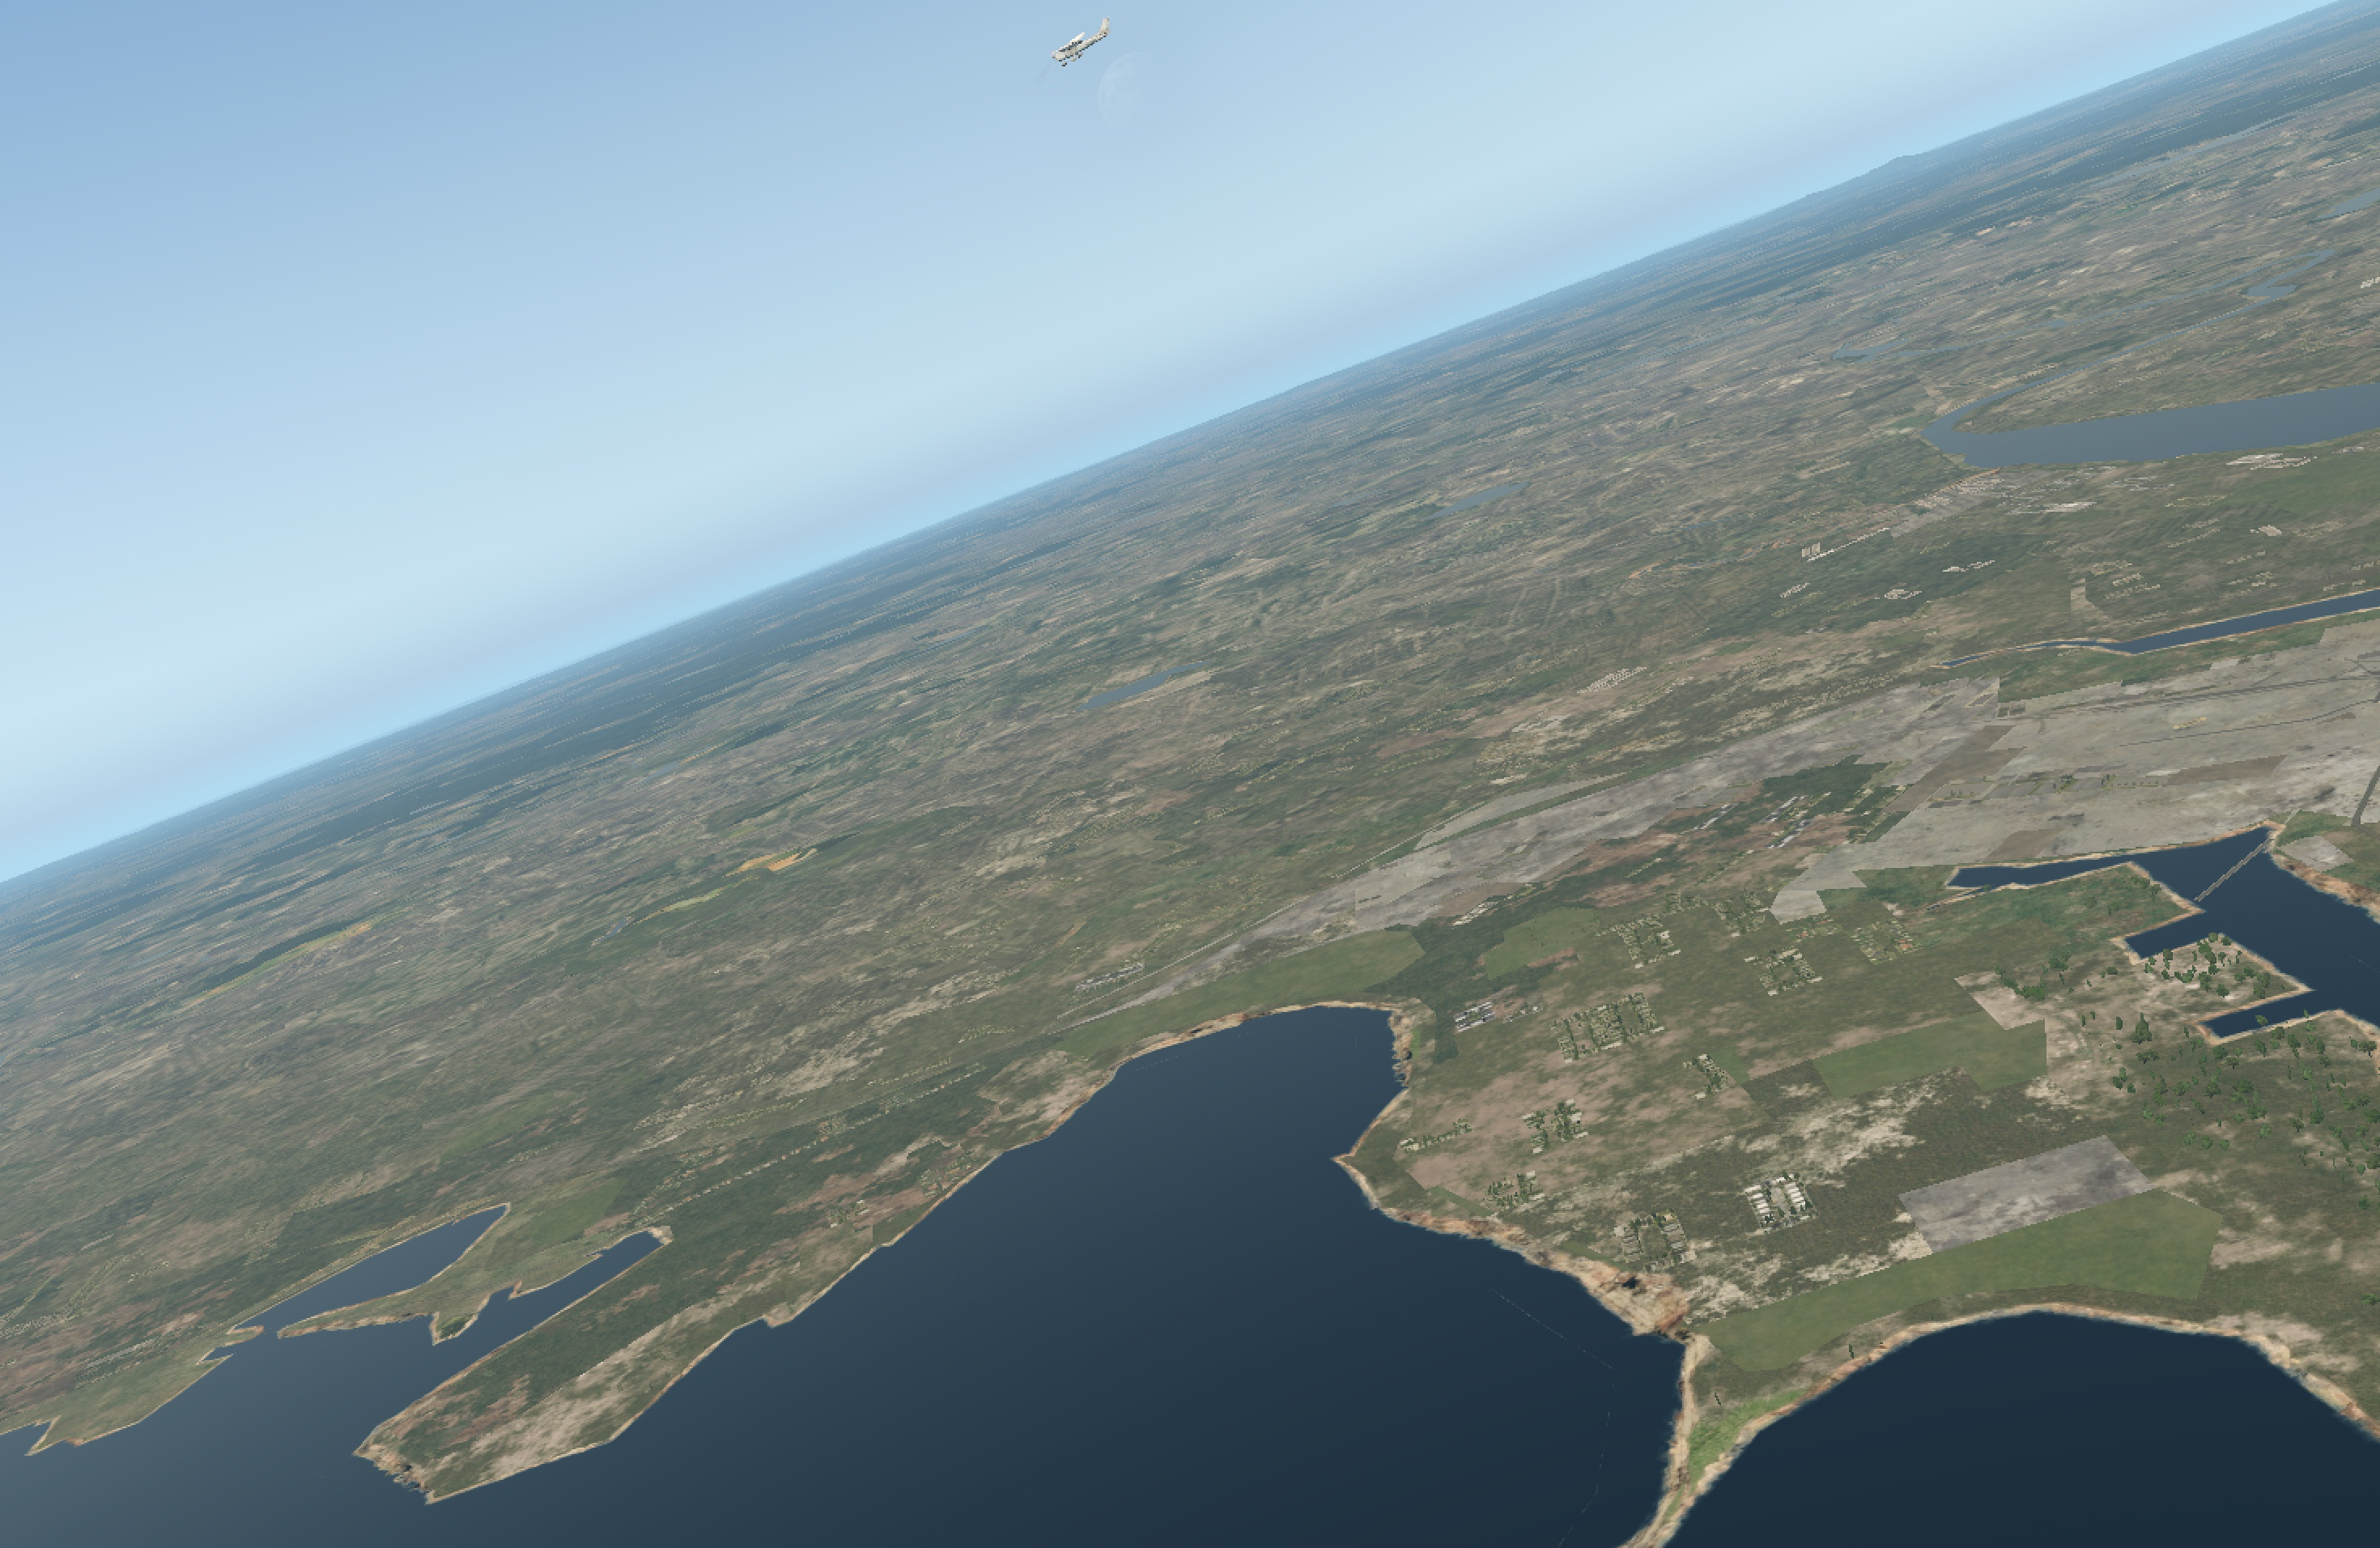aircraft: (1037, 38, 1102, 61)
